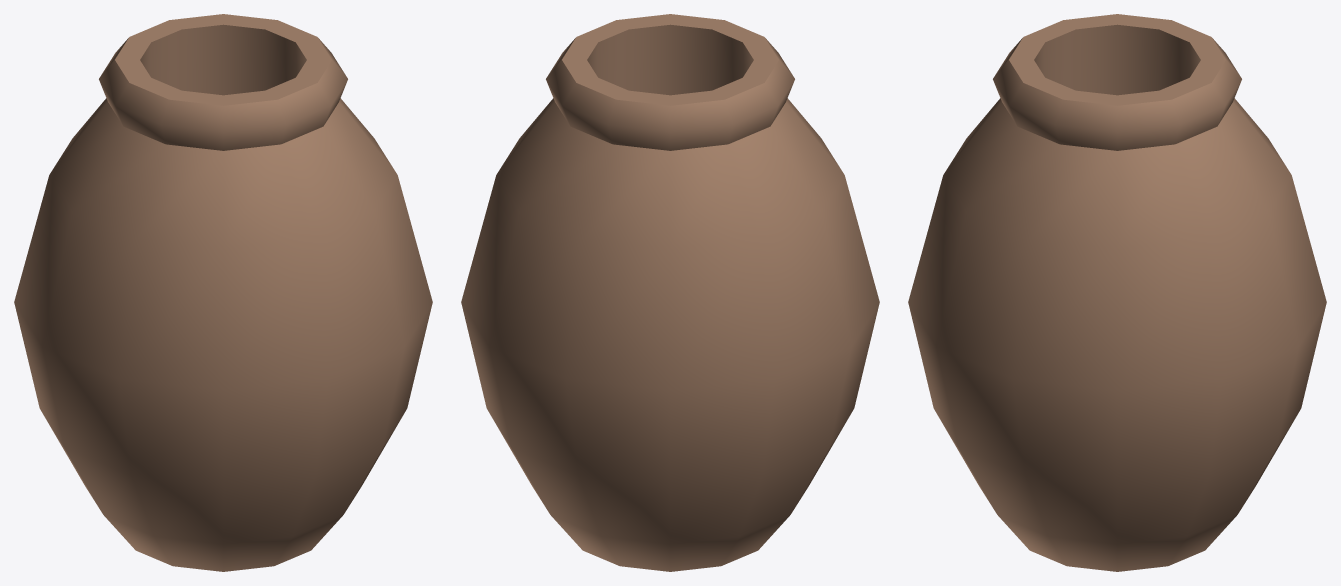
Rendered from Pot_Brown_A.fbx.
3 renders of one model, left to right at view 1: azimuth 30°, elevation 25°; view 2: azimuth 150°, elevation 25°; view 3: azimuth 270°, elevation 25°, orthographic.
Parts seen in each view (by area): view 1: Pot_Brown_A; view 2: Pot_Brown_A; view 3: Pot_Brown_A.
Boxes of the visible parts, x1=… form: Pot_Brown_A: x1=14, y1=14, x2=432, y2=571; Pot_Brown_A: x1=461, y1=14, x2=879, y2=571; Pot_Brown_A: x1=908, y1=14, x2=1326, y2=571.
Size of the model in its own units: 52.3 by 64.67 by 52.3.
